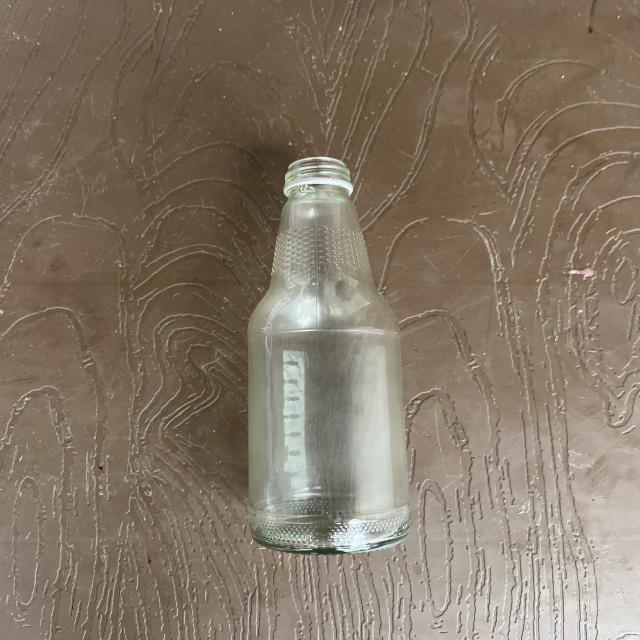Glass_Bottle: (248, 157, 409, 553)
